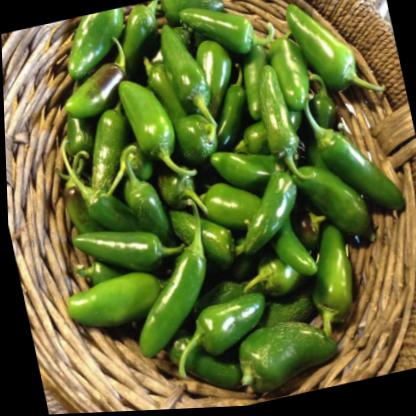--: (104, 187, 228, 368), (299, 75, 403, 224), (280, 0, 385, 114), (111, 61, 198, 189), (227, 312, 339, 398), (223, 157, 312, 261)
